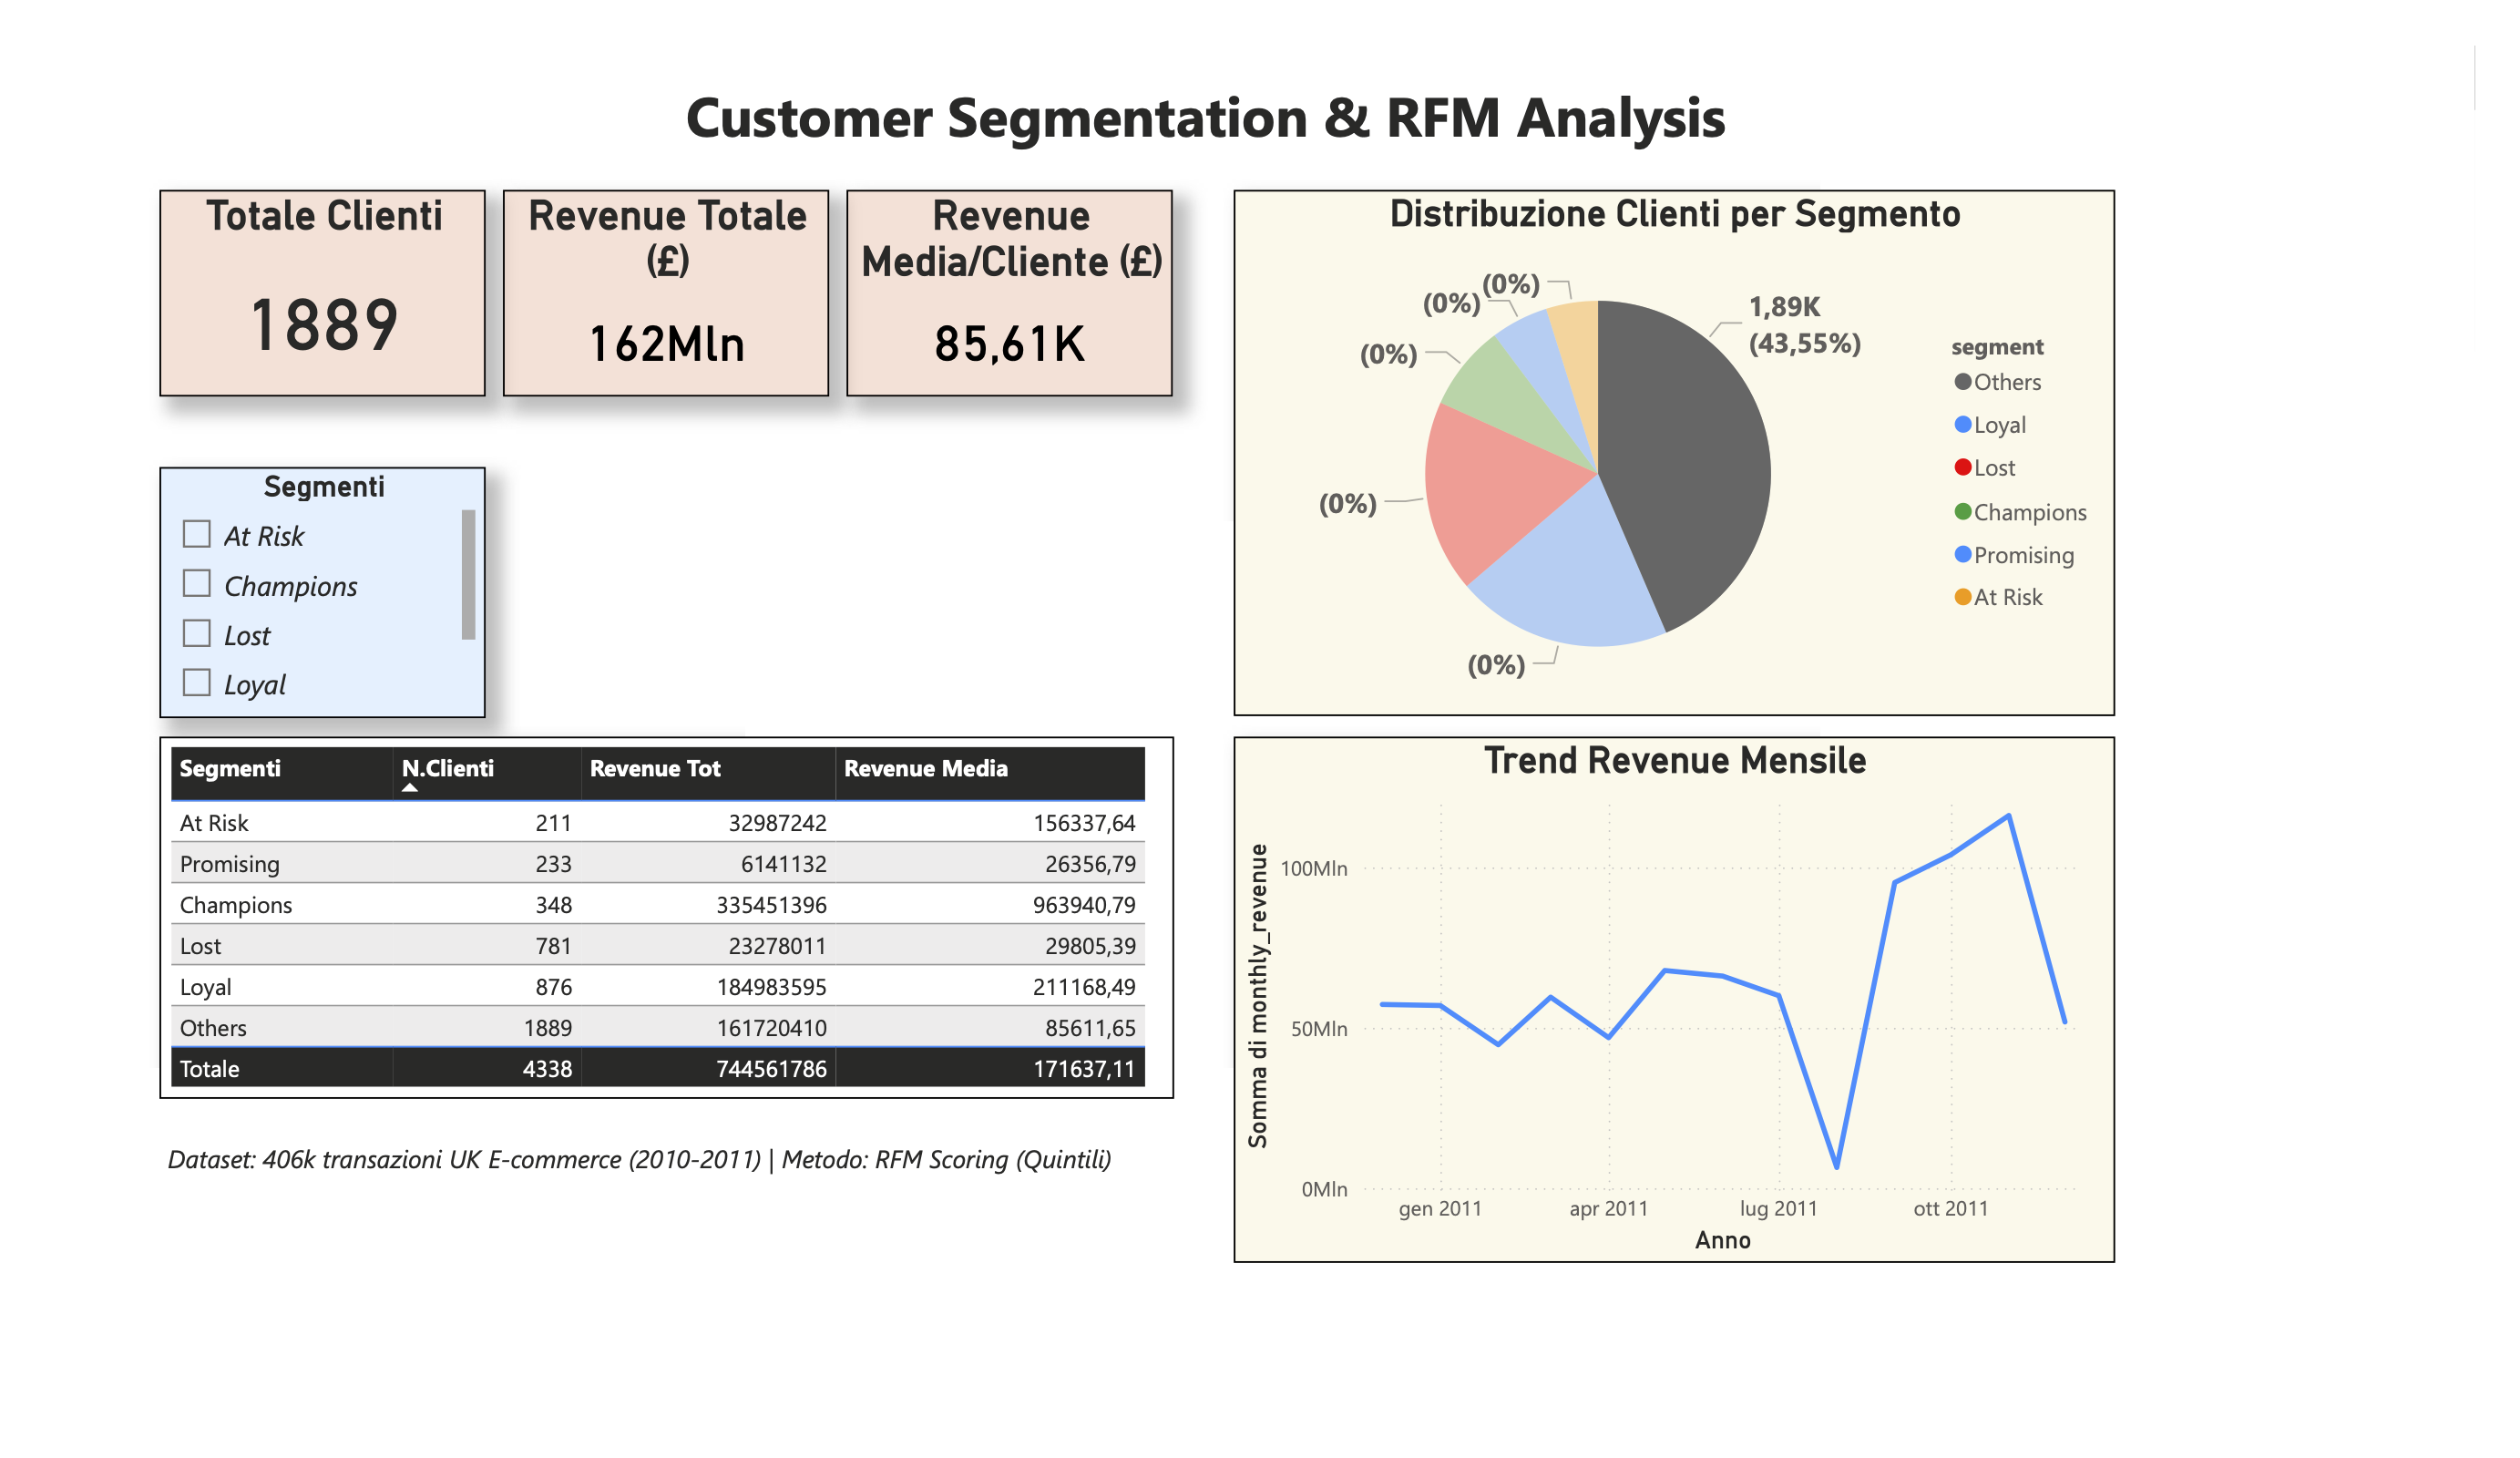

The page's visual inventory and layout, read from the dashboard file:
{"tool":"powerbi","page":{"name":"Pagina 1","canvas":[1280,720],"ordinal":0},"visuals":[{"type":"pieChart","title":"Distribuzione Clienti per Segmento","fields":{"Category":["customer_segments.segment"],"Y":["CountNonNull(customer_segments.CustomerID)"]},"box":[695.5,84.8,515.6,308.3],"z":0},{"type":"card","title":"Totale Clienti","fields":{"Values":["CountNonNull(customer_segments.CustomerID)"]},"box":[66.1,84.8,191.4,121.2],"z":1000},{"type":"card","title":"Revenue Totale (£)","fields":{"Values":["Sum(customer_segments.monetary_value)"]},"box":[268.1,84.8,191.4,121.2],"z":3000},{"type":"card","title":"Revenue Media/Cliente (£)","fields":{"Values":["Avg(customer_segments.monetary_value)"]},"box":[469,84.8,191.4,121.2],"z":4000},{"type":"lineChart","title":"Trend Revenue Mensile","fields":{"Y":["Sum(monthly_trend.monthly_revenue)"],"Category":["monthly_trend.year_months.Variazione.Gerarchia data.Anno","monthly_trend.year_months.Variazione.Gerarchia data.Trimestre","monthly_trend.year_months.Variazione.Gerarchia data.Mese","monthly_trend.year_months.Variazione.Gerarchia data.Giorno"]},"box":[695.5,404.8,515.6,308.3],"z":5000},{"type":"slicer","title":"Segmenti","fields":{"Values":["customer_segments.segment"]},"box":[66.1,246.4,191.4,146.7],"z":5001},{"type":"tableEx","fields":{"Values":["customer_segments.segment","CountNonNull(customer_segments.CustomerID)","Sum(customer_segments.monetary_value)","Avg(customer_segments.monetary_value)"]},"box":[66.1,404.8,594.3,211.6],"z":5002},{"type":"textbox","box":[363.8,13.5,632.6,61.7],"z":5003},{"type":"textbox","box":[66.1,635.5,594.3,52.1],"z":5004}]}

Visuals, with their boxes in screenshot pixels (x1, y1, x2, y2):
"Distribuzione Clienti per Segmento" pieChart: 1366, 207, 2344, 792
"Totale Clienti" card: 171, 207, 534, 436
"Revenue Totale (£)" card: 554, 207, 917, 436
"Revenue Media/Cliente (£)" card: 936, 207, 1298, 436
"Trend Revenue Mensile" lineChart: 1366, 814, 2344, 1400
"Segmenti" slicer: 171, 513, 534, 792
tableEx - customer_segments.segment x CountNonNull(customer_segments.CustomerID): 171, 814, 1298, 1216
textbox: 736, 71, 1936, 189
textbox: 171, 1252, 1298, 1351
